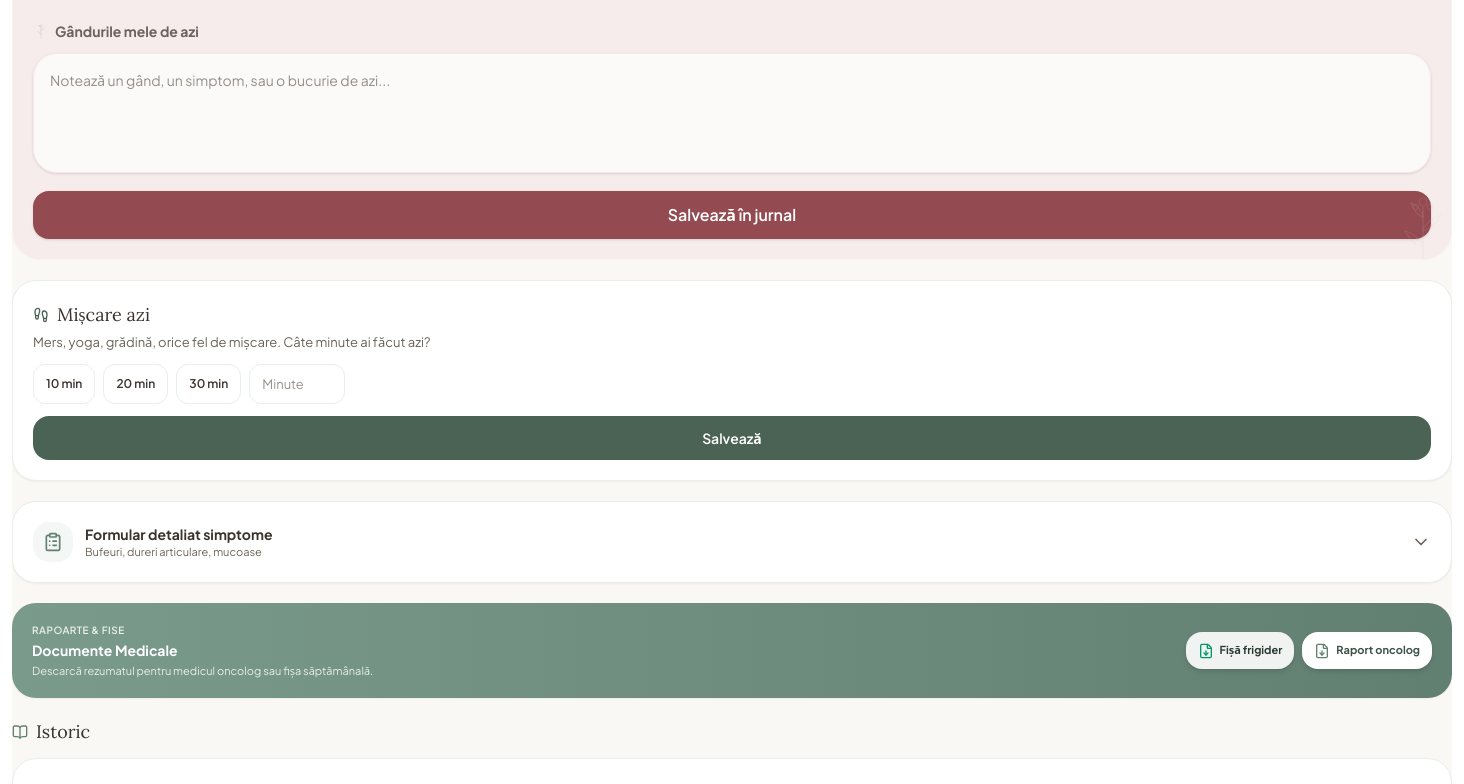
it: Mișcare azi › notează minutele de azi și le adună în „Săptămâna ta”
(page scrolled)
Click the button "30 min" at (209, 384), box [176,364,241,404]
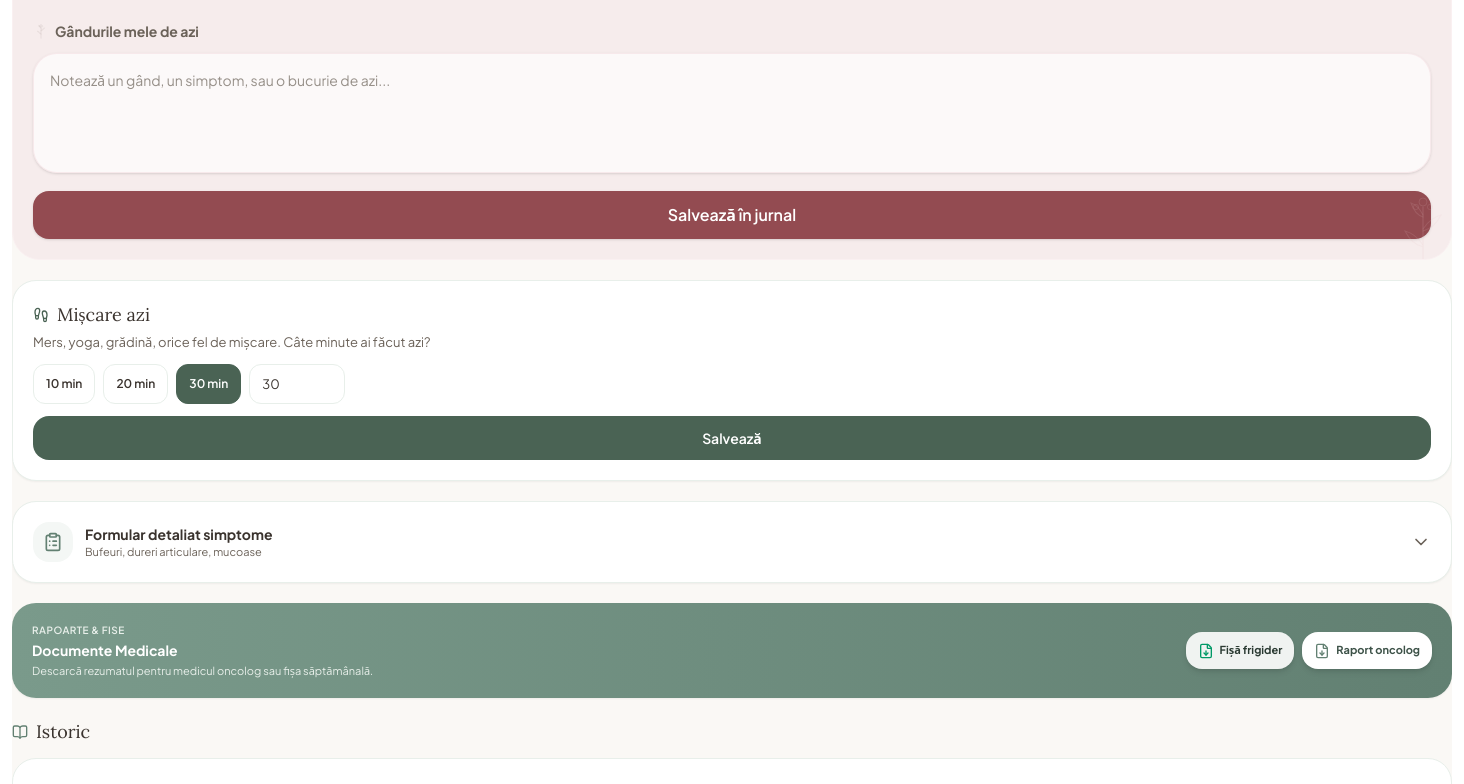
Click the button "Salvează" at (732, 438), box [33,416,1431,460]
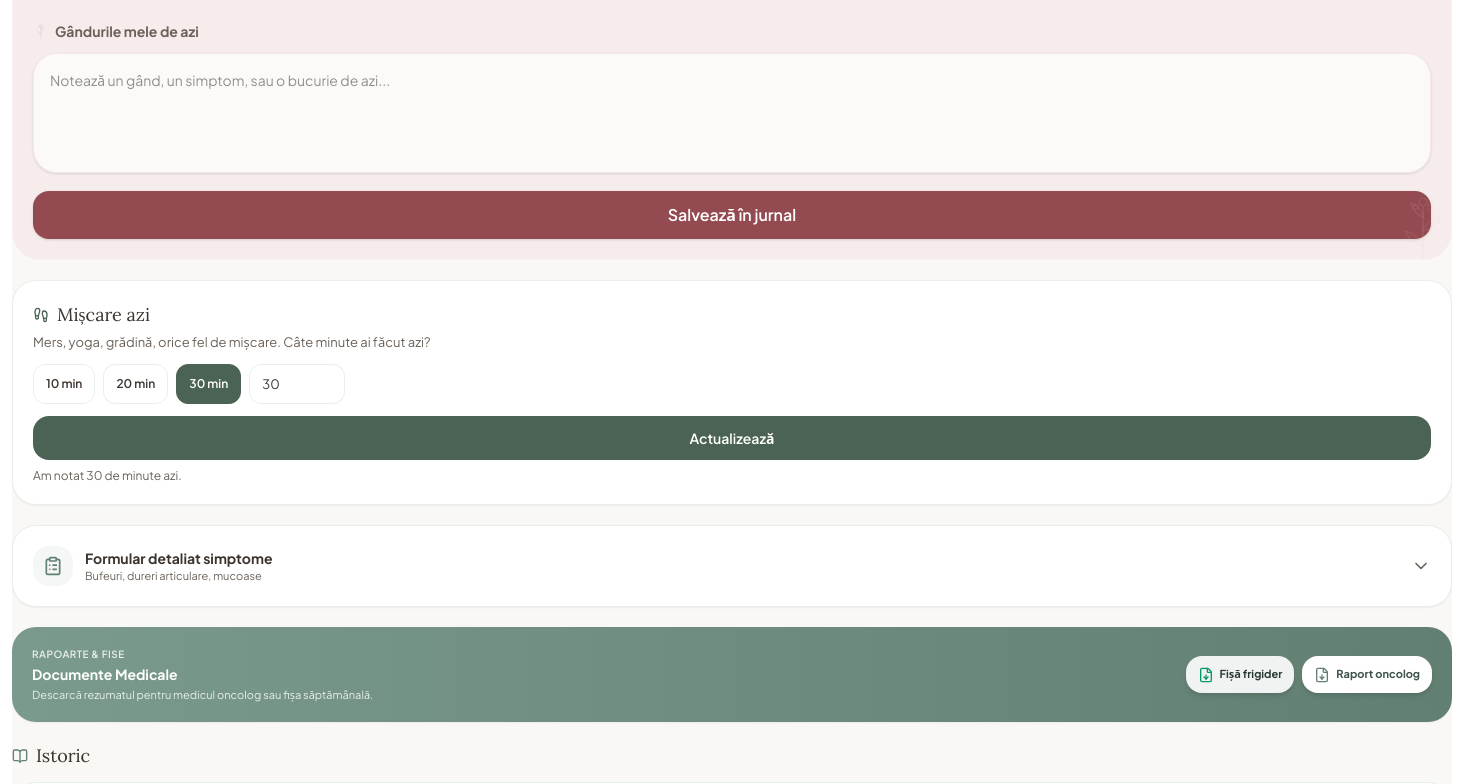
Check: the text "Am notat 30 de minute azi." is shown, box [33,468,182,483]
Check: the button "Actualizează" is shown, box [33,416,1431,460]
